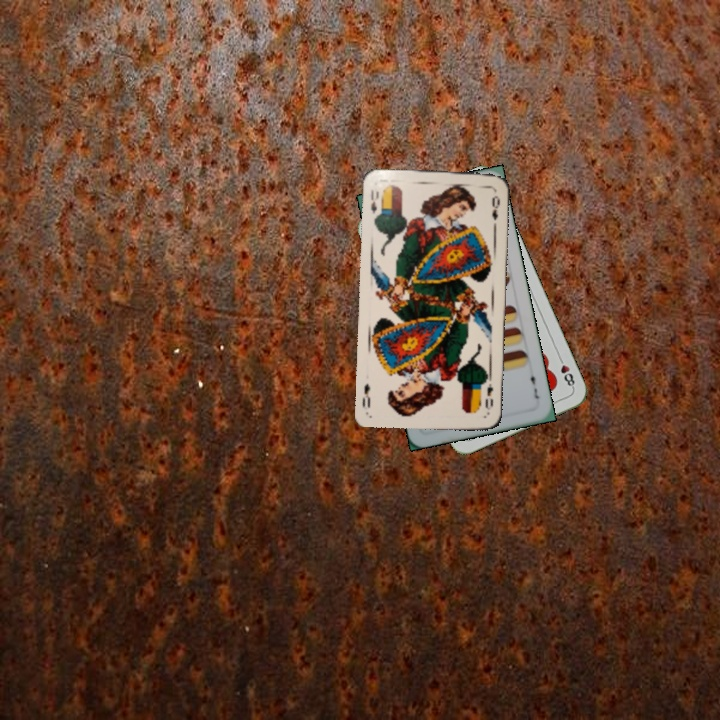E7: (526, 367, 541, 401)
EO: (479, 375, 496, 412), (367, 186, 381, 216)
H8: (554, 353, 577, 391)
